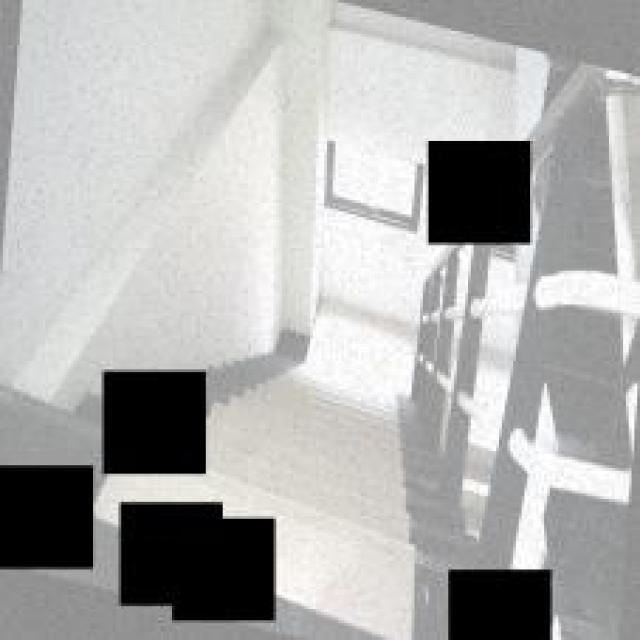downstair: (282, 355, 437, 632)
